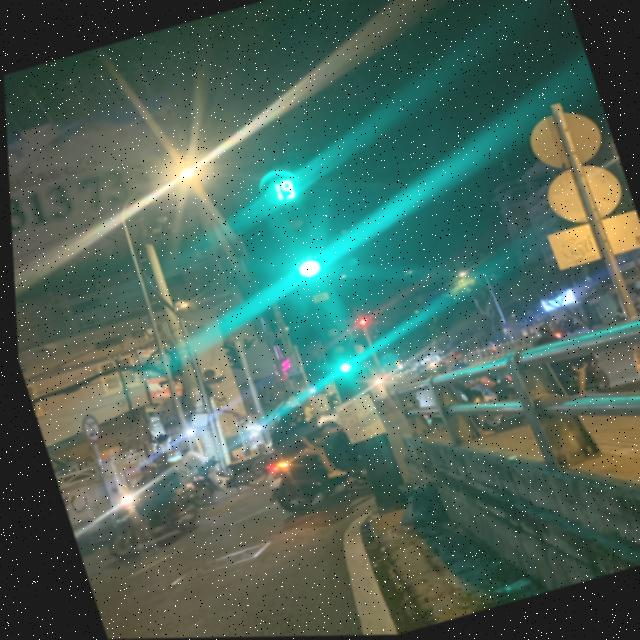Green: (262, 202, 337, 296), (315, 324, 364, 386)
